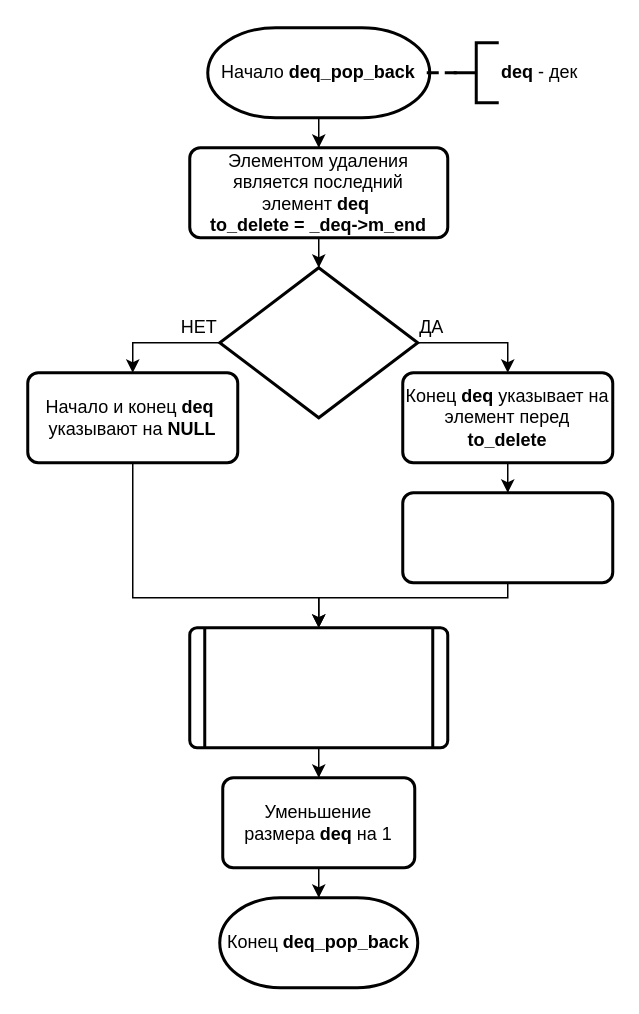
Image size: 639x1014. Some labels were removed from this diagram. Here are the shapes that lost their labels. From the top down, the centre of each, then its label:
(318,342): Если в deq минимум два элемента
(507,537): NULL - следующий элемент для элемента перед to_delete
(318,687): Вызов функции node_delete(to_delete) которая удалит элемент to_delete
